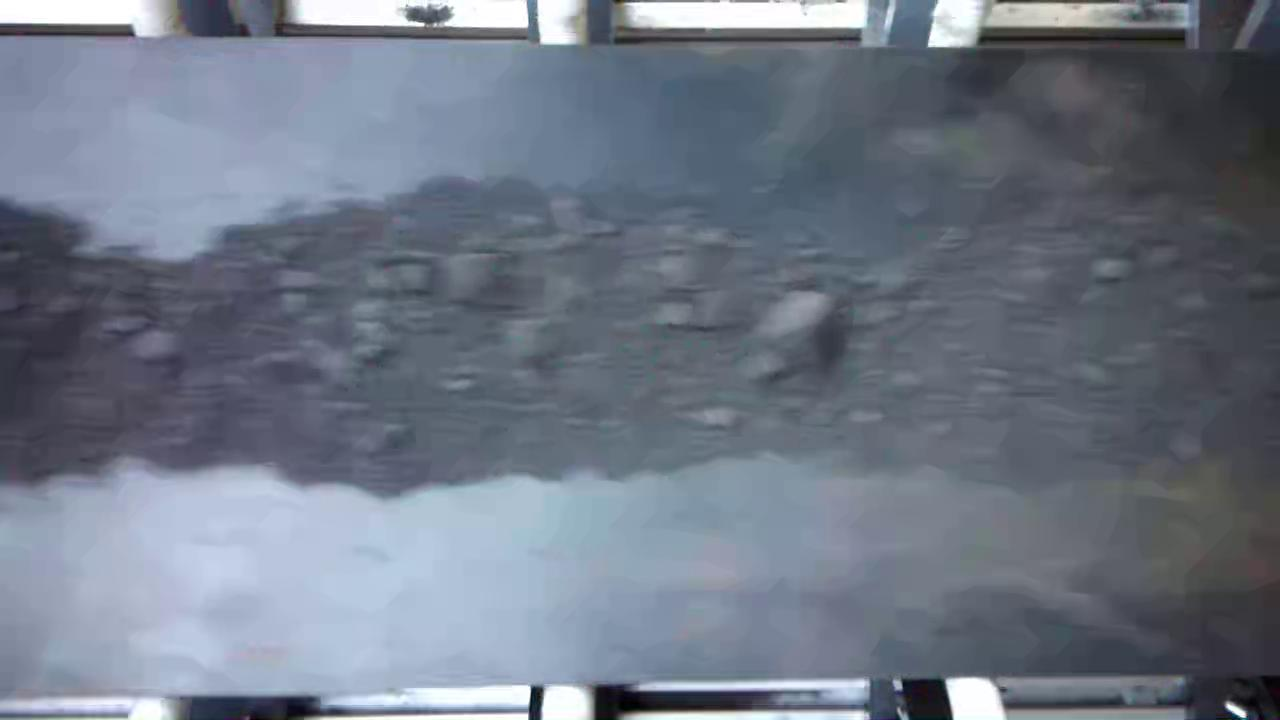conveyor: (4, 57, 1280, 663)
